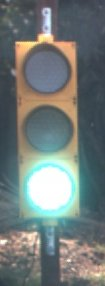Green: (3, 29, 92, 246)
